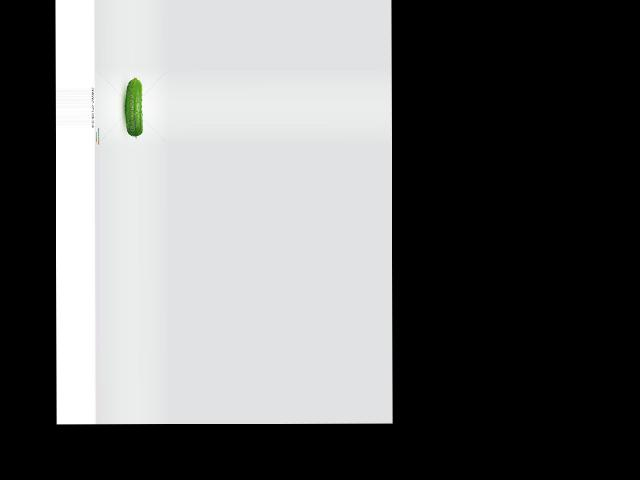cucumber: (125, 76, 142, 138)
